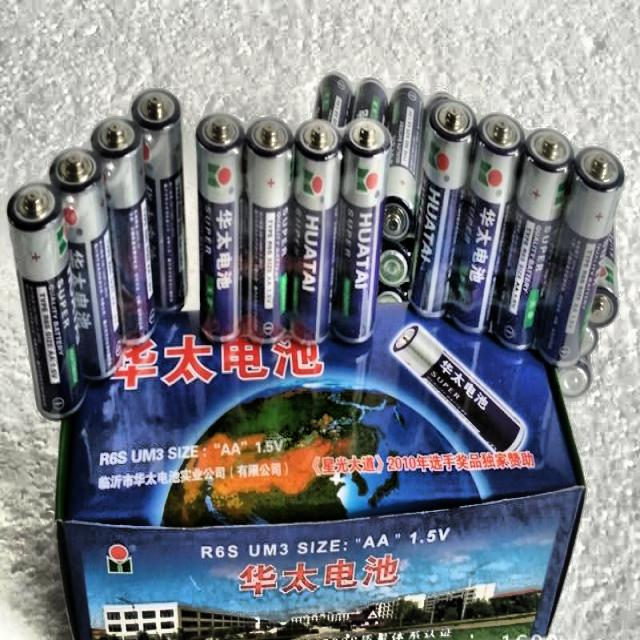Non-Valuable Waste - Batteries: (535, 149, 624, 366), (491, 130, 574, 350), (9, 183, 85, 418), (448, 114, 524, 333), (50, 149, 121, 381), (409, 95, 476, 317), (91, 117, 155, 344), (331, 117, 391, 343), (131, 90, 188, 312), (290, 119, 342, 344), (196, 114, 244, 340), (246, 119, 294, 343)
